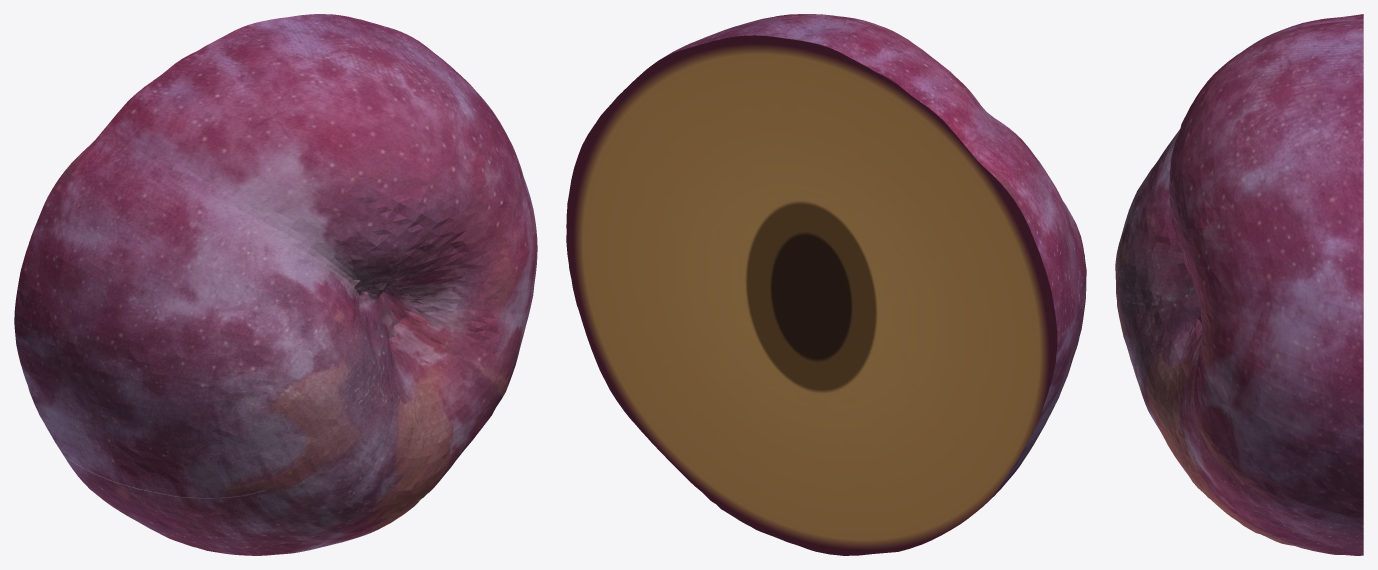
File: plum_right.obj
The picture shows the model from 3 angles, left to right: view 1: azimuth 30°, elevation 25°; view 2: azimuth 150°, elevation 25°; view 3: azimuth 270°, elevation 25°; orthographic projection. The views are drawn at different scales.
Visible parts, largest first — view 1: fruit_half; view 2: fruit_half; view 3: fruit_half.
Part boxes in pixels (x1=…): fruit_half: x1=14, y1=14, x2=537, y2=555; fruit_half: x1=566, y1=14, x2=1086, y2=555; fruit_half: x1=1115, y1=14, x2=1363, y2=555.
Size of the model in its own units: 0.0515 by 0.0509 by 0.0231.
